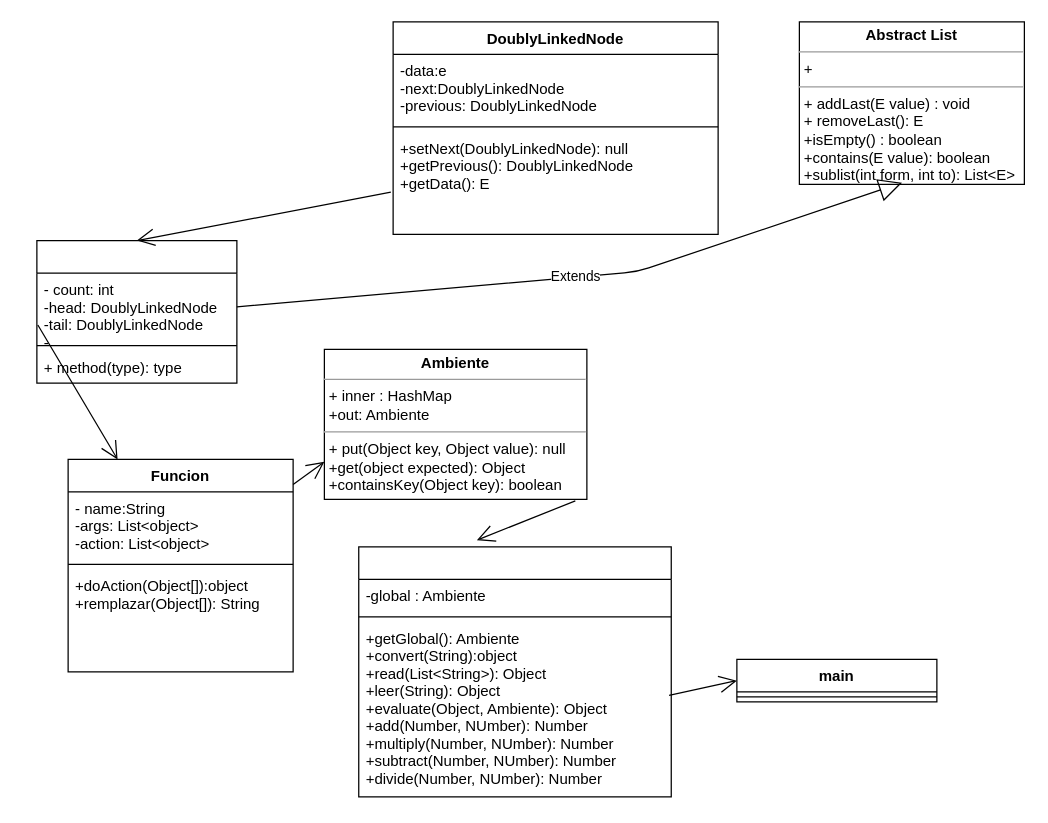
Some shapes in this 1048 by 823 pixel diagram are drawn without their labels. Here are the shapes that lost their labels. From the top down, the box of each, then its label:
(36, 239, 237, 383): DoublyLinkedList
(358, 546, 671, 797): Interpreter
